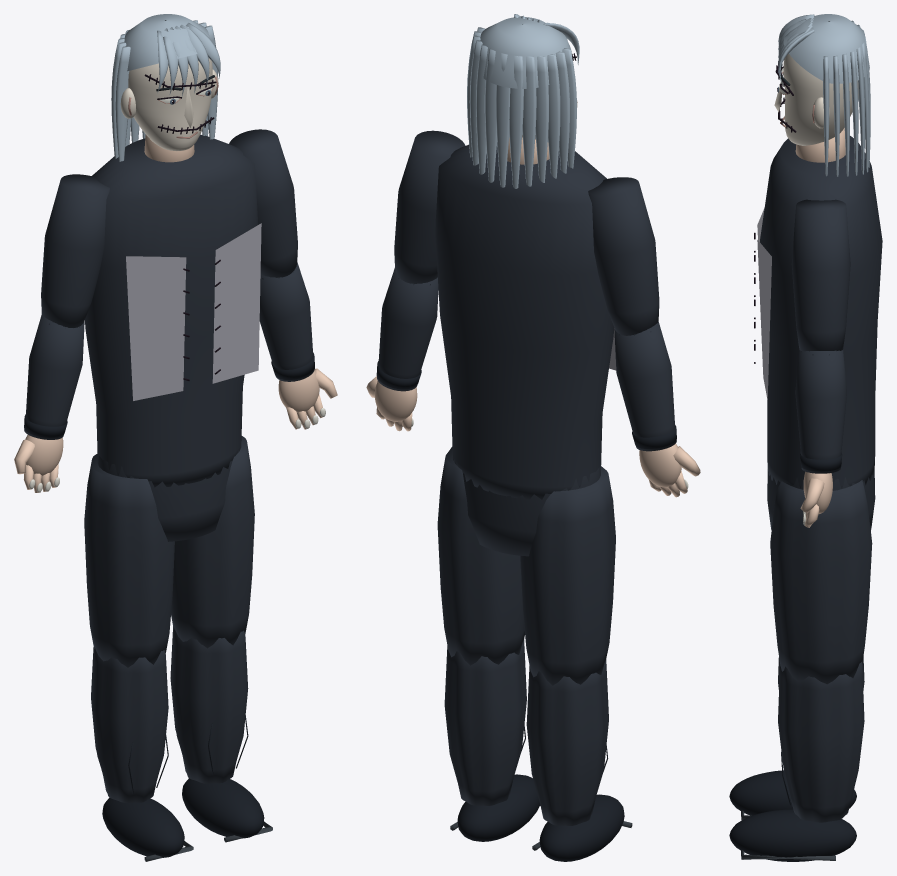
File: mahito.glb
3 views of the same model, side by side, from view 1: azimuth 30°, elevation 25°; view 2: azimuth 150°, elevation 25°; view 3: azimuth 270°, elevation 25° (orthographic). The views are drawn at different scales.
Parts seen in each view (by area): view 1: tailored torso.012, draped trouser upper leg.012, patchwork garment panel.002, draped trouser upper leg.013, draped trouser lower leg.012, draped trouser lower leg.013, shaped upper sleeve.016, center parted gray bangs.006, shaped upper sleeve.017, ear.012, overlapping elbow.028, overlapping elbow.029 (+6 smaller); view 2: tailored torso.012, draped trouser upper leg.012, center parted gray bangs.006, draped trouser upper leg.013, draped trouser lower leg.012, draped trouser lower leg.013, shaped upper sleeve.016, shaped upper sleeve.017, overlapping elbow.028, overlapping elbow.029, fitted trouser seat.006, ankle gathered cloth crease.024 (+3 smaller); view 3: tailored torso.012, draped trouser upper leg.013, draped trouser lower leg.013, center parted gray bangs.006, shaped upper sleeve.017, overlapping elbow.029, ankle gathered cloth crease.026, ear.012, ankle gathered cloth crease.024, patchwork garment panel.002, finger.128, fitted trouser seat.006 (+3 smaller).
Part boxes in pixels (box(x1,y1,x2,y2)): tailored torso.012: box(85, 134, 257, 487); draped trouser upper leg.012: box(84, 453, 174, 667); patchwork garment panel.002: box(126, 223, 261, 400); draped trouser upper leg.013: box(171, 436, 254, 648); draped trouser lower leg.012: box(91, 647, 168, 803); draped trouser lower leg.013: box(170, 627, 248, 783); shaped upper sleeve.016: box(41, 174, 109, 327); center parted gray bangs.006: box(111, 14, 220, 161); shaped upper sleeve.017: box(229, 129, 297, 277); ear.012: box(120, 58, 218, 151); overlapping elbow.028: box(24, 314, 84, 439); overlapping elbow.029: box(259, 262, 314, 381); tailored torso.012: box(435, 142, 614, 499); draped trouser upper leg.012: box(520, 466, 615, 685); center parted gray bangs.006: box(467, 14, 579, 188); draped trouser upper leg.013: box(437, 447, 524, 665); draped trouser lower leg.012: box(526, 659, 608, 825); draped trouser lower leg.013: box(444, 639, 526, 805); shaped upper sleeve.016: box(588, 177, 659, 335); shaped upper sleeve.017: box(394, 130, 465, 283); overlapping elbow.028: box(614, 321, 676, 451); overlapping elbow.029: box(377, 268, 438, 391); fitted trouser seat.006: box(453, 450, 600, 556); ankle gathered cloth crease.024: box(539, 745, 624, 861); tailored torso.012: box(760, 136, 882, 488); draped trouser upper leg.013: box(770, 480, 872, 684); draped trouser lower leg.013: box(778, 662, 864, 822); center parted gray bangs.006: box(778, 14, 870, 176); shaped upper sleeve.017: box(791, 199, 850, 351); overlapping elbow.029: box(795, 350, 846, 473); ankle gathered cloth crease.026: box(729, 751, 856, 861); ear.012: box(774, 53, 858, 145); ankle gathered cloth crease.024: box(729, 770, 856, 815); patchwork garment panel.002: box(757, 208, 771, 399); finger.128: box(800, 471, 832, 527); fitted trouser seat.006: box(767, 469, 875, 530).
Bounding box in the file's own units: 0.7635 × 1.84 × 0.312.
